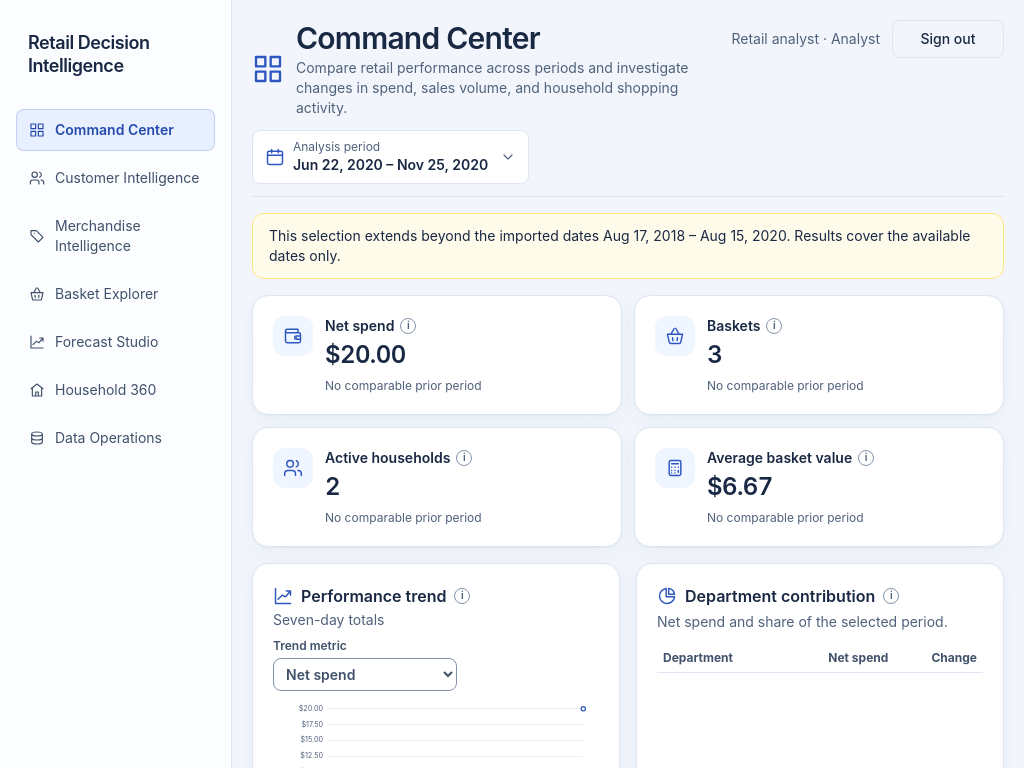
Scenario: Command Center › explains out-of-range selections and suppresses their prior comparison
Expected: the text "This selection extends beyond the imported dates" is shown, [269, 227, 599, 244]
Expected: the field labelled "Selected period, Aug 10, 2020 – Aug 15, 2020 (6 days)" is shown, [581, 706, 585, 711]
Click the text "Analysis period": (337, 146) [293, 139, 380, 154]
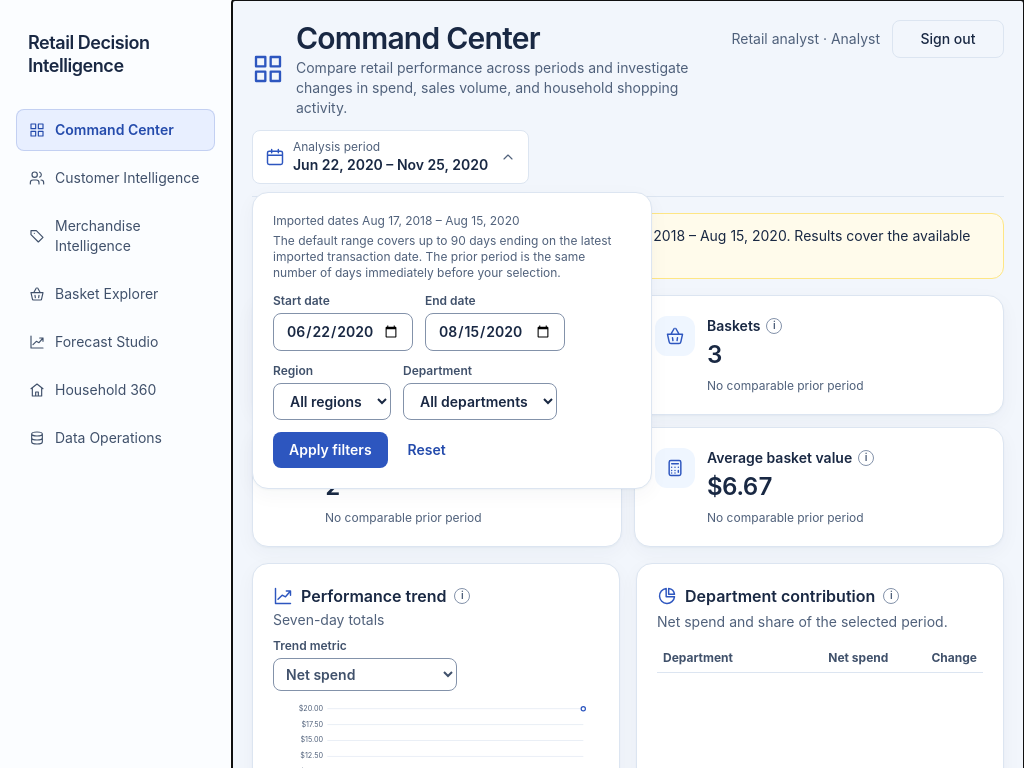
Expected: the date field labelled "End date" holds "2020-08-15", [425, 313, 565, 351]
